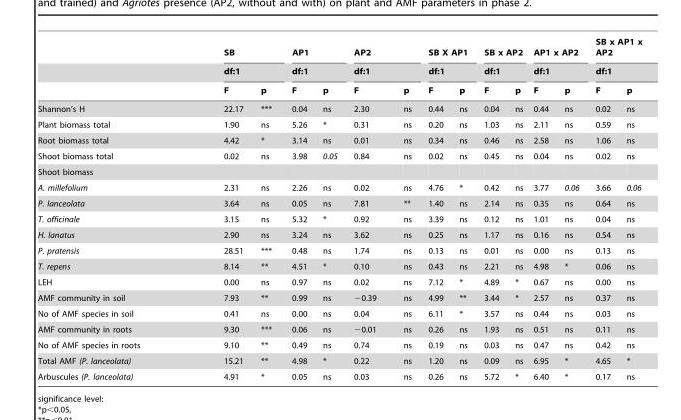table: (37, 37, 641, 380)
table column: (37, 37, 181, 380), (181, 37, 251, 380), (344, 37, 389, 380), (281, 37, 314, 380), (419, 37, 450, 380), (475, 37, 506, 380), (555, 37, 586, 380), (586, 37, 617, 380), (251, 37, 281, 380), (314, 37, 344, 380), (389, 37, 419, 380), (527, 37, 555, 380), (450, 37, 475, 380), (617, 37, 641, 380), (506, 37, 527, 380)
table column header: (37, 37, 641, 99)
table projected row header: (37, 163, 641, 179)
table row: (37, 37, 641, 61), (37, 61, 641, 80), (37, 80, 641, 99), (37, 99, 641, 116), (37, 116, 641, 132), (37, 132, 641, 148), (37, 163, 641, 179), (37, 179, 641, 195), (37, 195, 641, 211), (37, 226, 641, 242), (37, 242, 641, 258), (37, 258, 641, 274), (37, 289, 641, 305), (37, 305, 641, 321), (37, 321, 641, 337), (37, 352, 641, 368), (37, 148, 641, 163), (37, 211, 641, 226), (37, 274, 641, 289), (37, 337, 641, 352), (37, 368, 641, 380)
table spanning cell: (181, 37, 281, 80), (344, 37, 419, 80), (281, 37, 344, 80), (527, 37, 586, 80), (419, 37, 475, 80), (586, 37, 641, 80), (475, 37, 527, 80)
